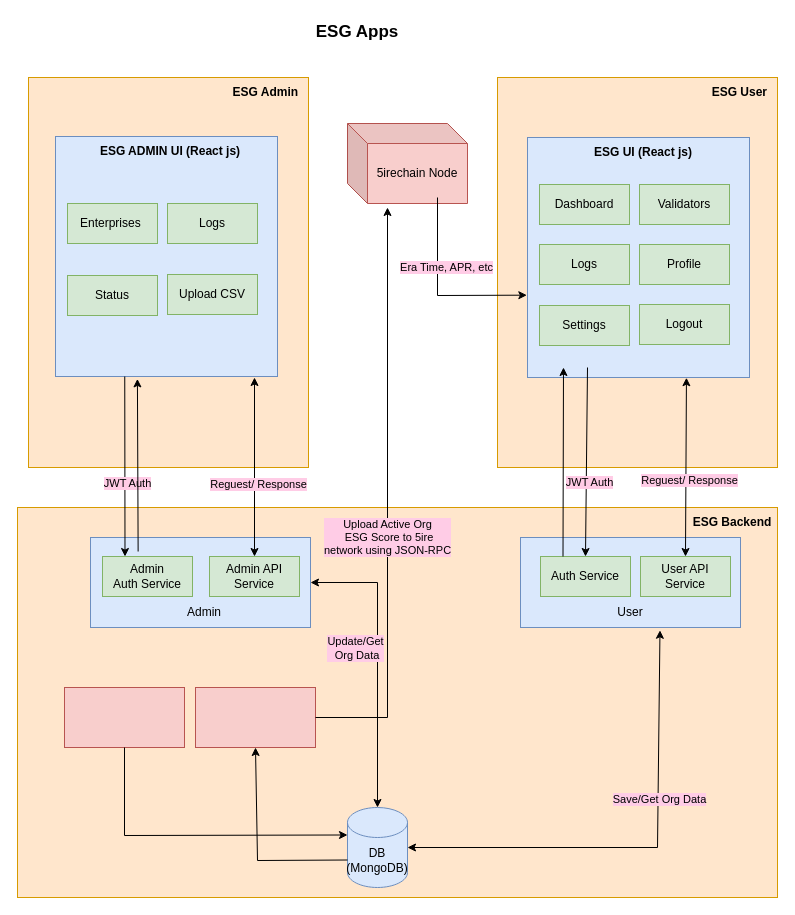
This 795x915 diagram has some shape labels left out. Each missing label, with the box of its shape:
Cron Job 1 (Save CSV data): (64, 686, 184, 748)
Cron Job 2 (Save ESG Score to Blockchain of Active Org): (194, 686, 316, 748)
